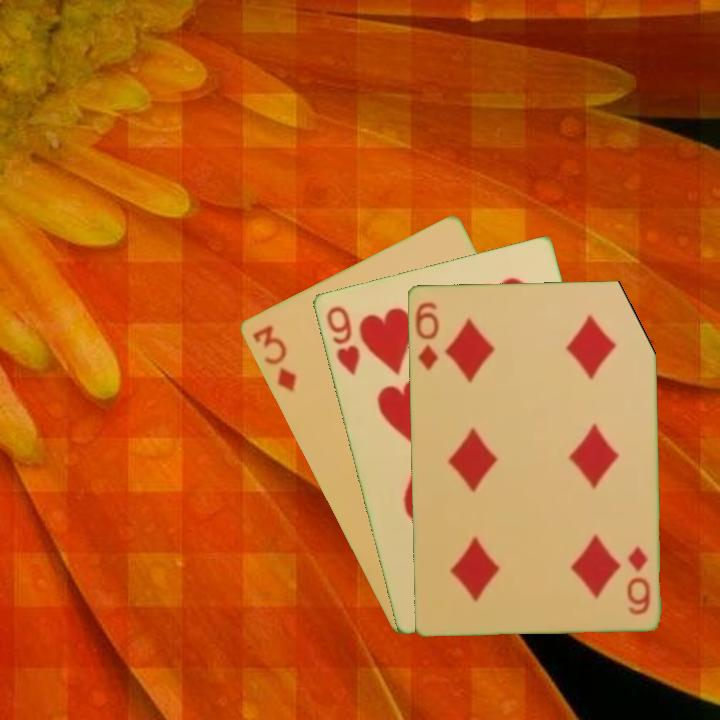3d: (248, 321, 299, 395)
6d: (411, 298, 441, 373), (623, 542, 653, 617)
9h: (322, 302, 363, 378)
